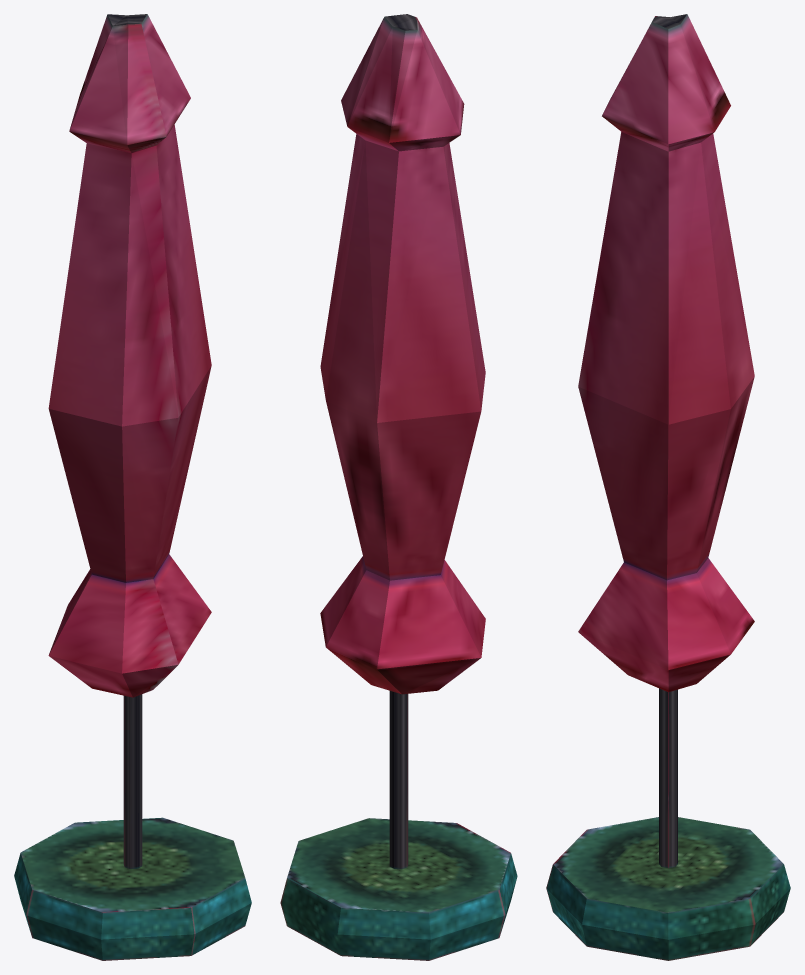
The model's file is Umbrella01a.obj.
3 views of the same model, side by side, from view 1: azimuth 30°, elevation 25°; view 2: azimuth 150°, elevation 25°; view 3: azimuth 270°, elevation 25° (orthographic).
Parts seen in each view (by area): view 1: Umbrella01.ClothClosed, Umbrella01.Base; view 2: Umbrella01.ClothClosed, Umbrella01.Base; view 3: Umbrella01.ClothClosed, Umbrella01.Base.
Part boxes in pixels (x1,y1,x2,y2): Umbrella01.ClothClosed: [48, 14, 211, 697]; Umbrella01.Base: [14, 694, 251, 960]; Umbrella01.ClothClosed: [320, 14, 485, 694]; Umbrella01.Base: [280, 691, 517, 960]; Umbrella01.ClothClosed: [578, 14, 754, 692]; Umbrella01.Base: [546, 688, 790, 960].
Size of the model in its own units: 1.27 by 5.1 by 1.27.
